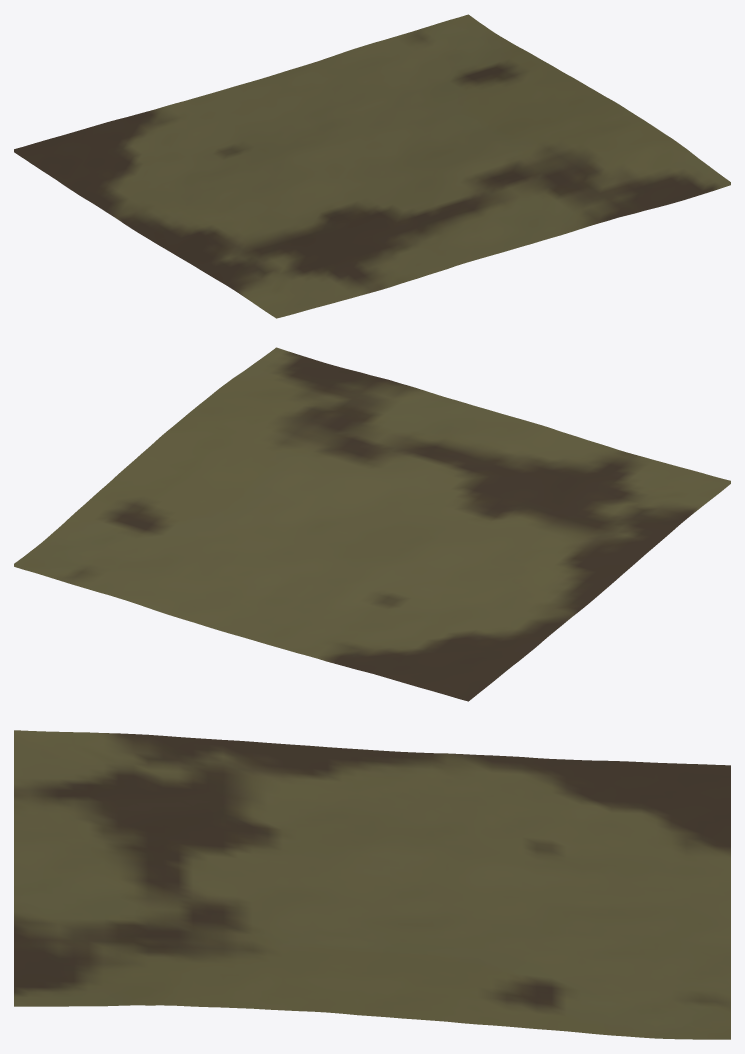
File: land_m_14_10.glb
3 views of the same model, one above another, from view 1: azimuth 30°, elevation 25°; view 2: azimuth 150°, elevation 25°; view 3: azimuth 270°, elevation 25° (orthographic). The views are drawn at different scales.
Parts seen in each view (by area): view 1: land_m_14_10; view 2: land_m_14_10; view 3: land_m_14_10.
Part boxes in pixels (<box>): land_m_14_10: <box>14,14,730,318</box>; land_m_14_10: <box>14,347,730,701</box>; land_m_14_10: <box>14,730,730,1039</box>.
Bounding box in the file's own units: 960 × 105 × 960.
